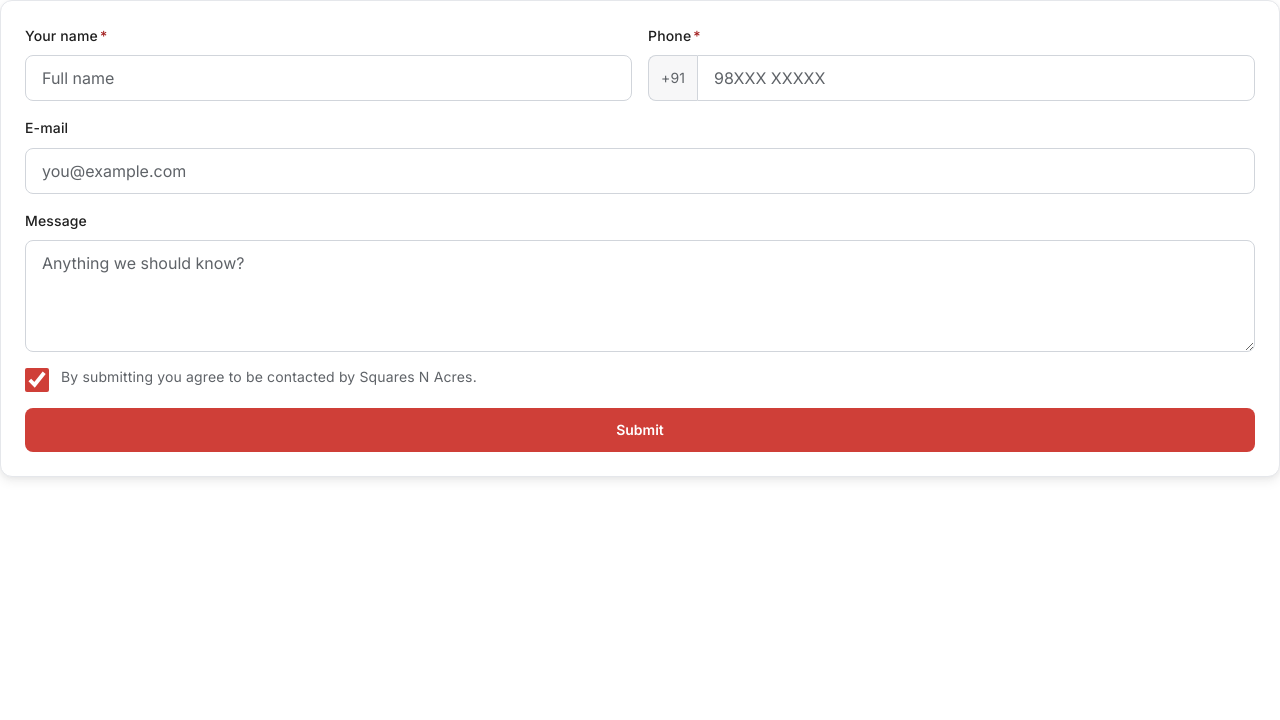
Test: what the server says back › says plainly when it is rate limiting us (429)
The image size is (1280, 720).
In the field labelled "Your name*": (328, 78) [25,55,632,101], type "Asha Rao"
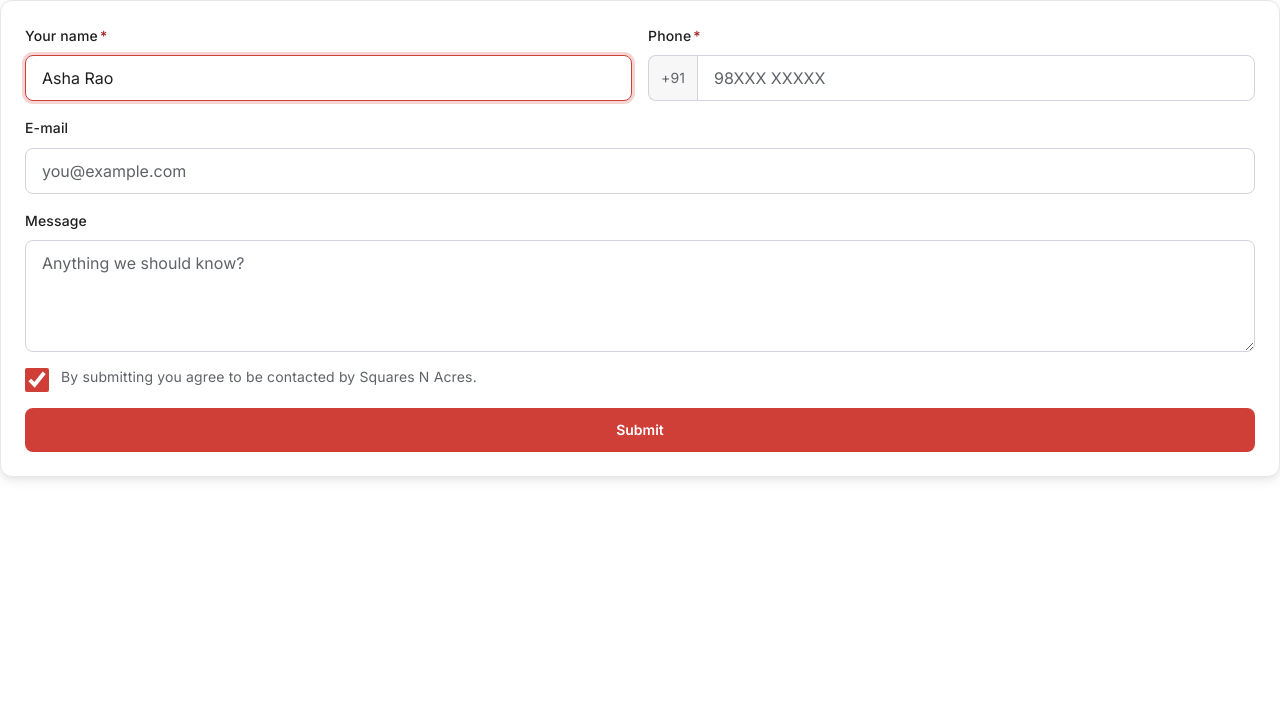
In the field labelled "Phone*": (976, 78) [697,55,1255,101], type "9876543210"
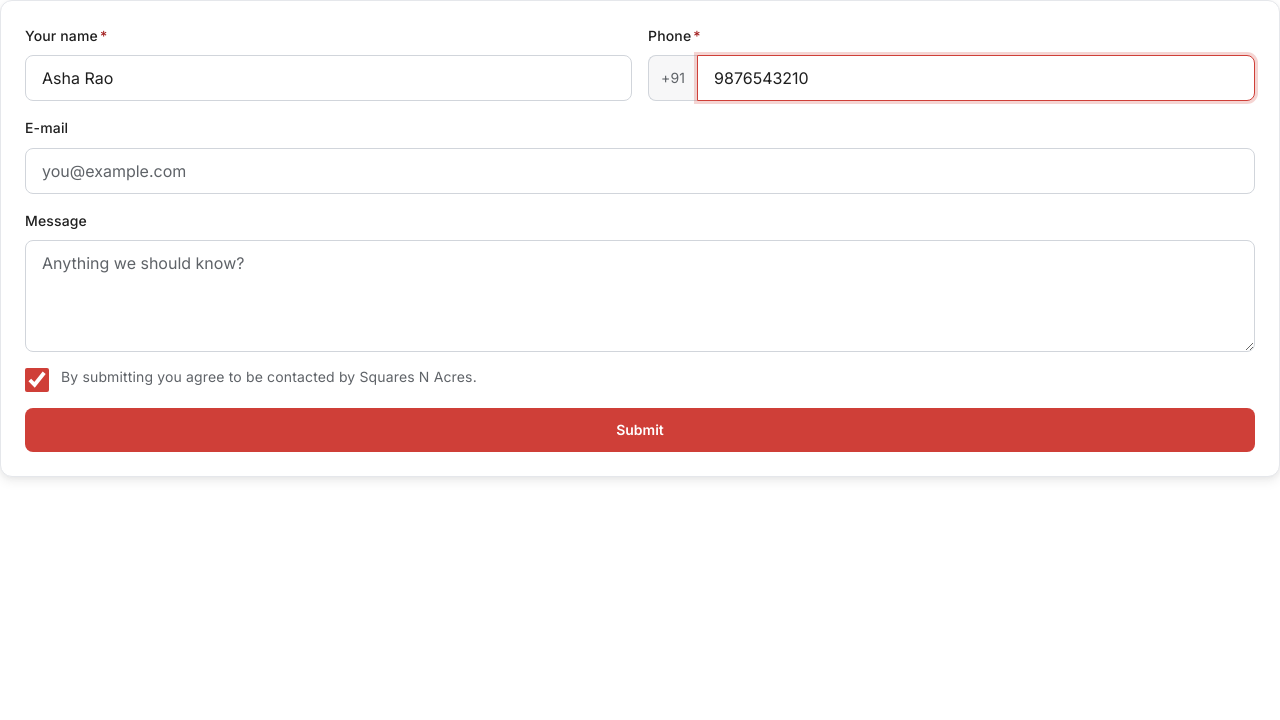
Click the button "Submit": (640, 430) [25,408,1255,452]
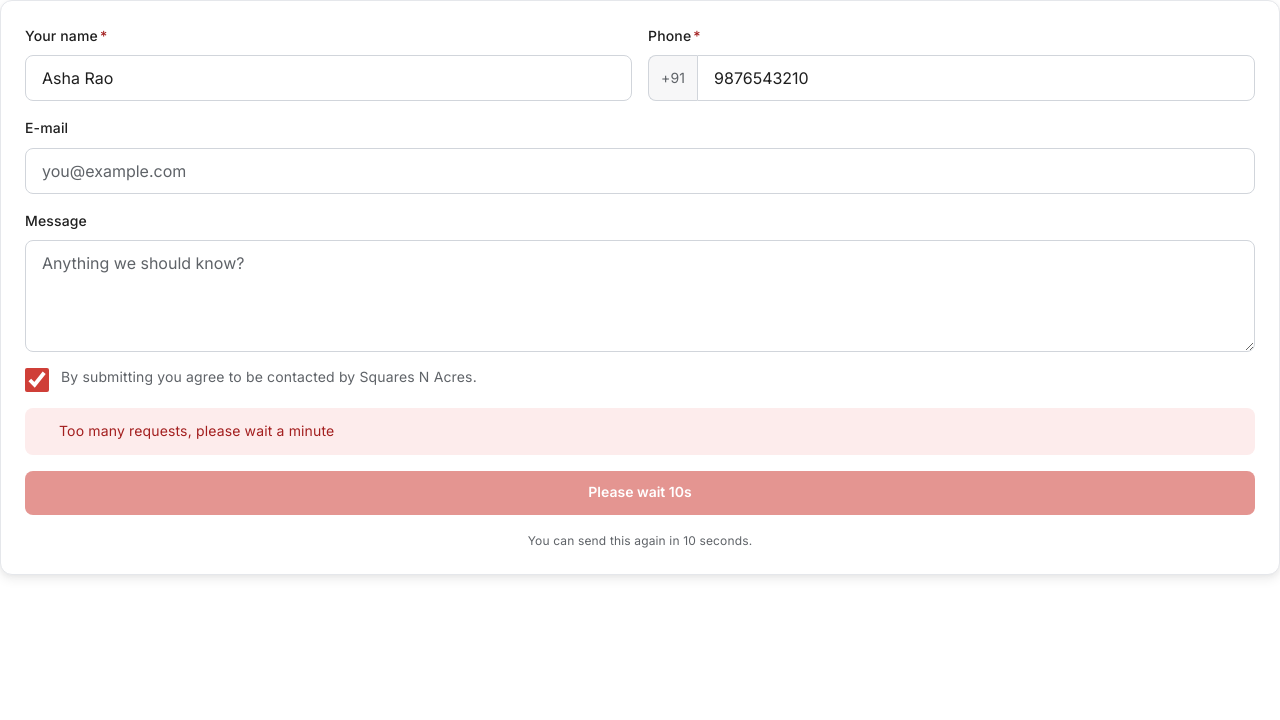
Expected: the text "Too many requests, please wait a minute" is shown 2 times
